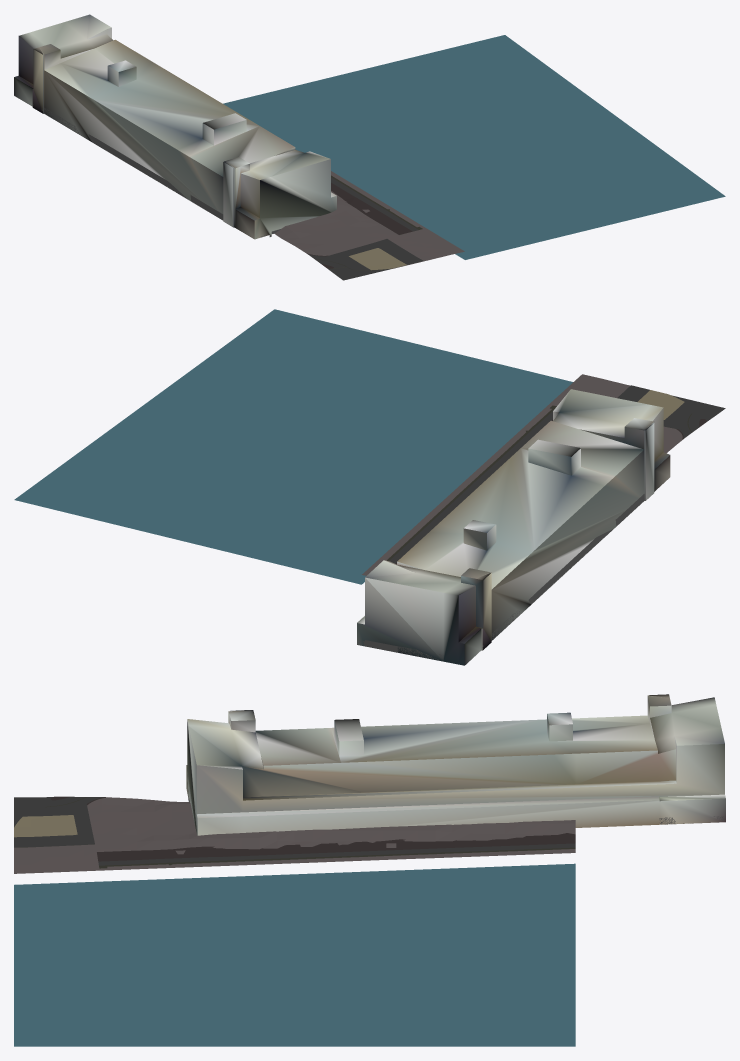
3 renders of one model, top to bottom at view 1: azimuth 30°, elevation 25°; view 2: azimuth 150°, elevation 25°; view 3: azimuth 270°, elevation 25°, orthographic. The views are drawn at different scales.
Parts seen in each view (by area): view 1: c_m13_p10; view 2: c_m13_p10; view 3: c_m13_p10.
Boxes of the visible parts, x1,y1,x2,y2 form: c_m13_p10: [14, 14, 725, 280]; c_m13_p10: [14, 309, 725, 665]; c_m13_p10: [14, 694, 725, 1046].
Size of the model in its own units: 146 by 21.98 by 162.
